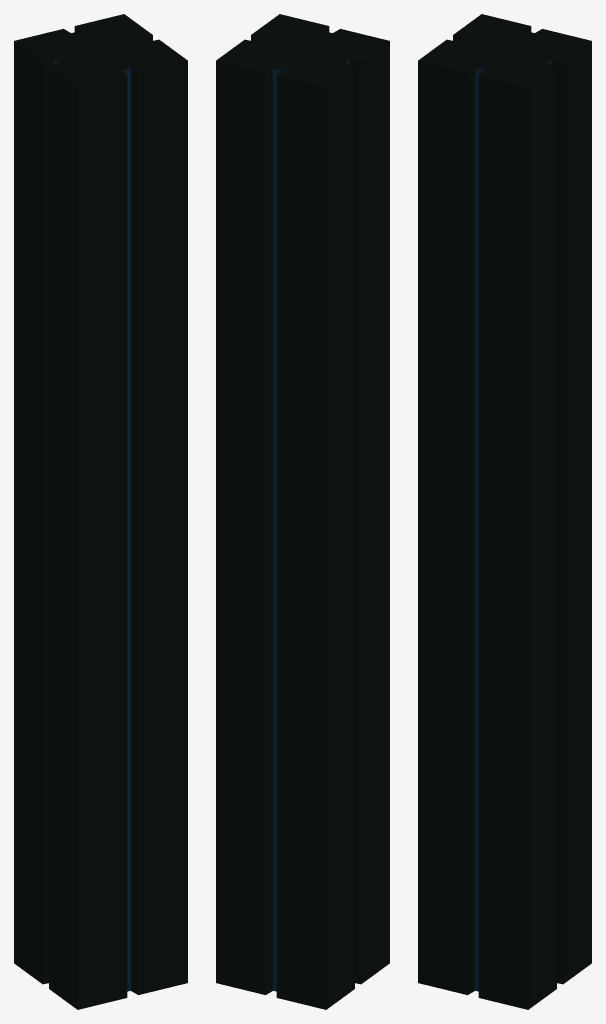
Rendered from GlowPillar.glb.
3 renders of one model, left to right at view 1: azimuth 30°, elevation 25°; view 2: azimuth 150°, elevation 25°; view 3: azimuth 330°, elevation 25°, orthographic.
Visible parts, largest first — view 1: glow_pillar; view 2: glow_pillar; view 3: glow_pillar.
Boxes of the visible parts, left/top/right/bottom form: glow_pillar: left=14, top=14, right=187, bottom=1009; glow_pillar: left=216, top=14, right=389, bottom=1009; glow_pillar: left=418, top=14, right=591, bottom=1009.
Size of what is drawn, in the model's own units: 0.5 by 4 by 0.5.
Materials: 1 (1 with a texture image).
